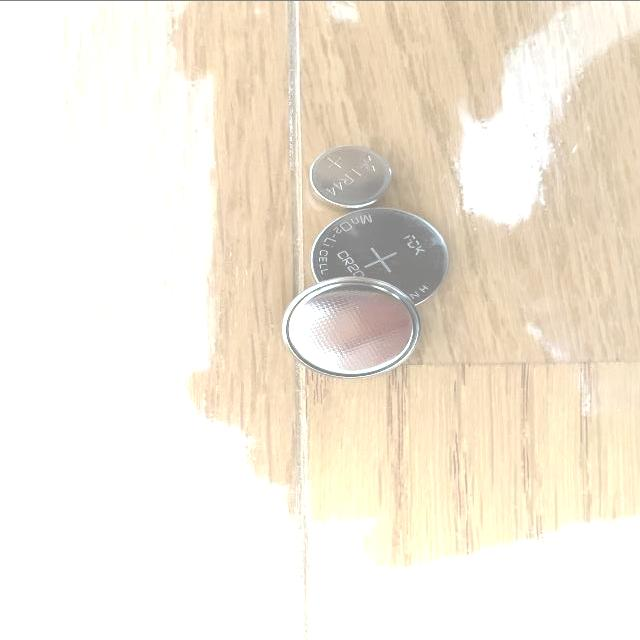COIN: (278, 274, 423, 380), (308, 203, 453, 307), (308, 140, 395, 208)
